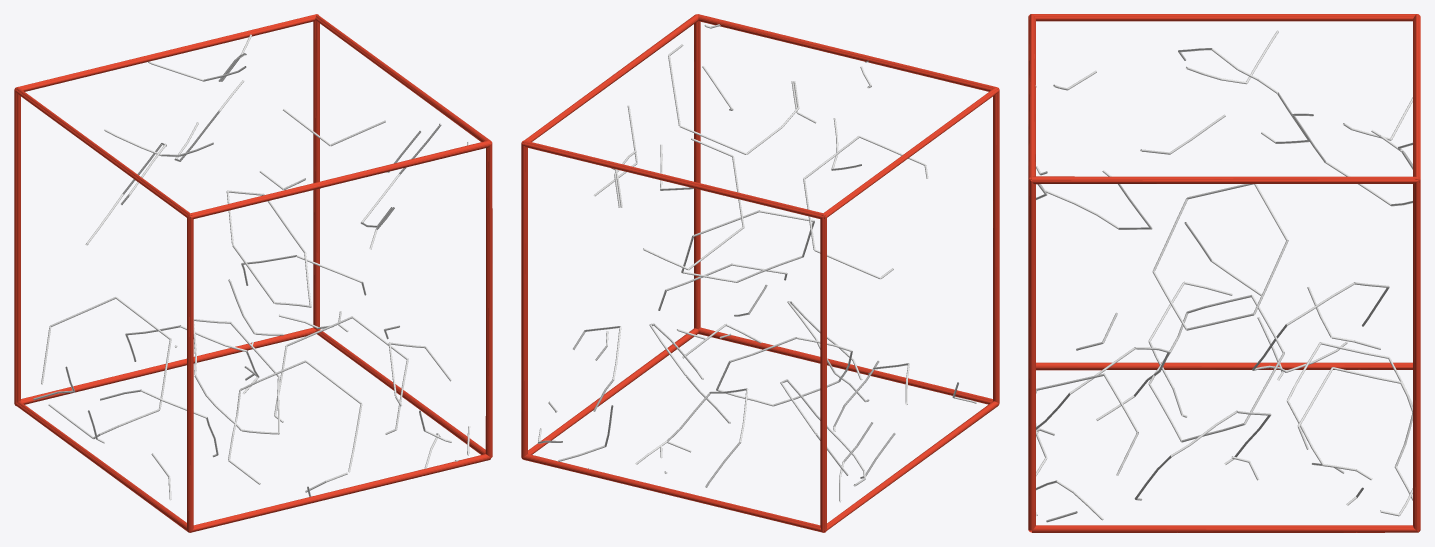
File: dislocation100.glb
The picture shows the model from 3 angles, left to right: view 1: azimuth 30°, elevation 25°; view 2: azimuth 150°, elevation 25°; view 3: azimuth 270°, elevation 25°; orthographic projection. The views are drawn at different scales.
Visible parts, largest first — view 1: Shape_IndexedLineSet, Shape_IndexedLineSet.001; view 2: Shape_IndexedLineSet, Shape_IndexedLineSet.001; view 3: Shape_IndexedLineSet, Shape_IndexedLineSet.001.
Boxes of the visible parts, left/top/right/bottom form: Shape_IndexedLineSet: left=14, top=14, right=492, bottom=532; Shape_IndexedLineSet.001: left=33, top=34, right=469, bottom=500; Shape_IndexedLineSet: left=521, top=14, right=999, bottom=532; Shape_IndexedLineSet.001: left=538, top=24, right=976, bottom=502; Shape_IndexedLineSet: left=1028, top=14, right=1420, bottom=532; Shape_IndexedLineSet.001: left=1035, top=30, right=1412, bottom=522.
Size of the model in its own units: 1.02 by 1.02 by 1.02.
